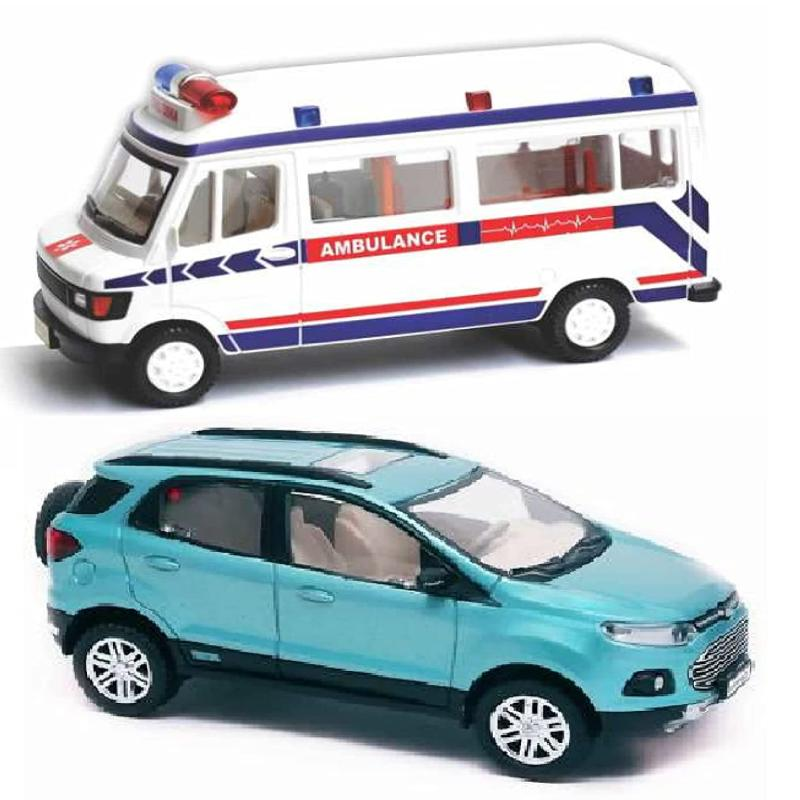AmbulanceSiren: (144, 40, 234, 118)
ambulance: (24, 38, 702, 414)
car: (50, 443, 736, 776)
